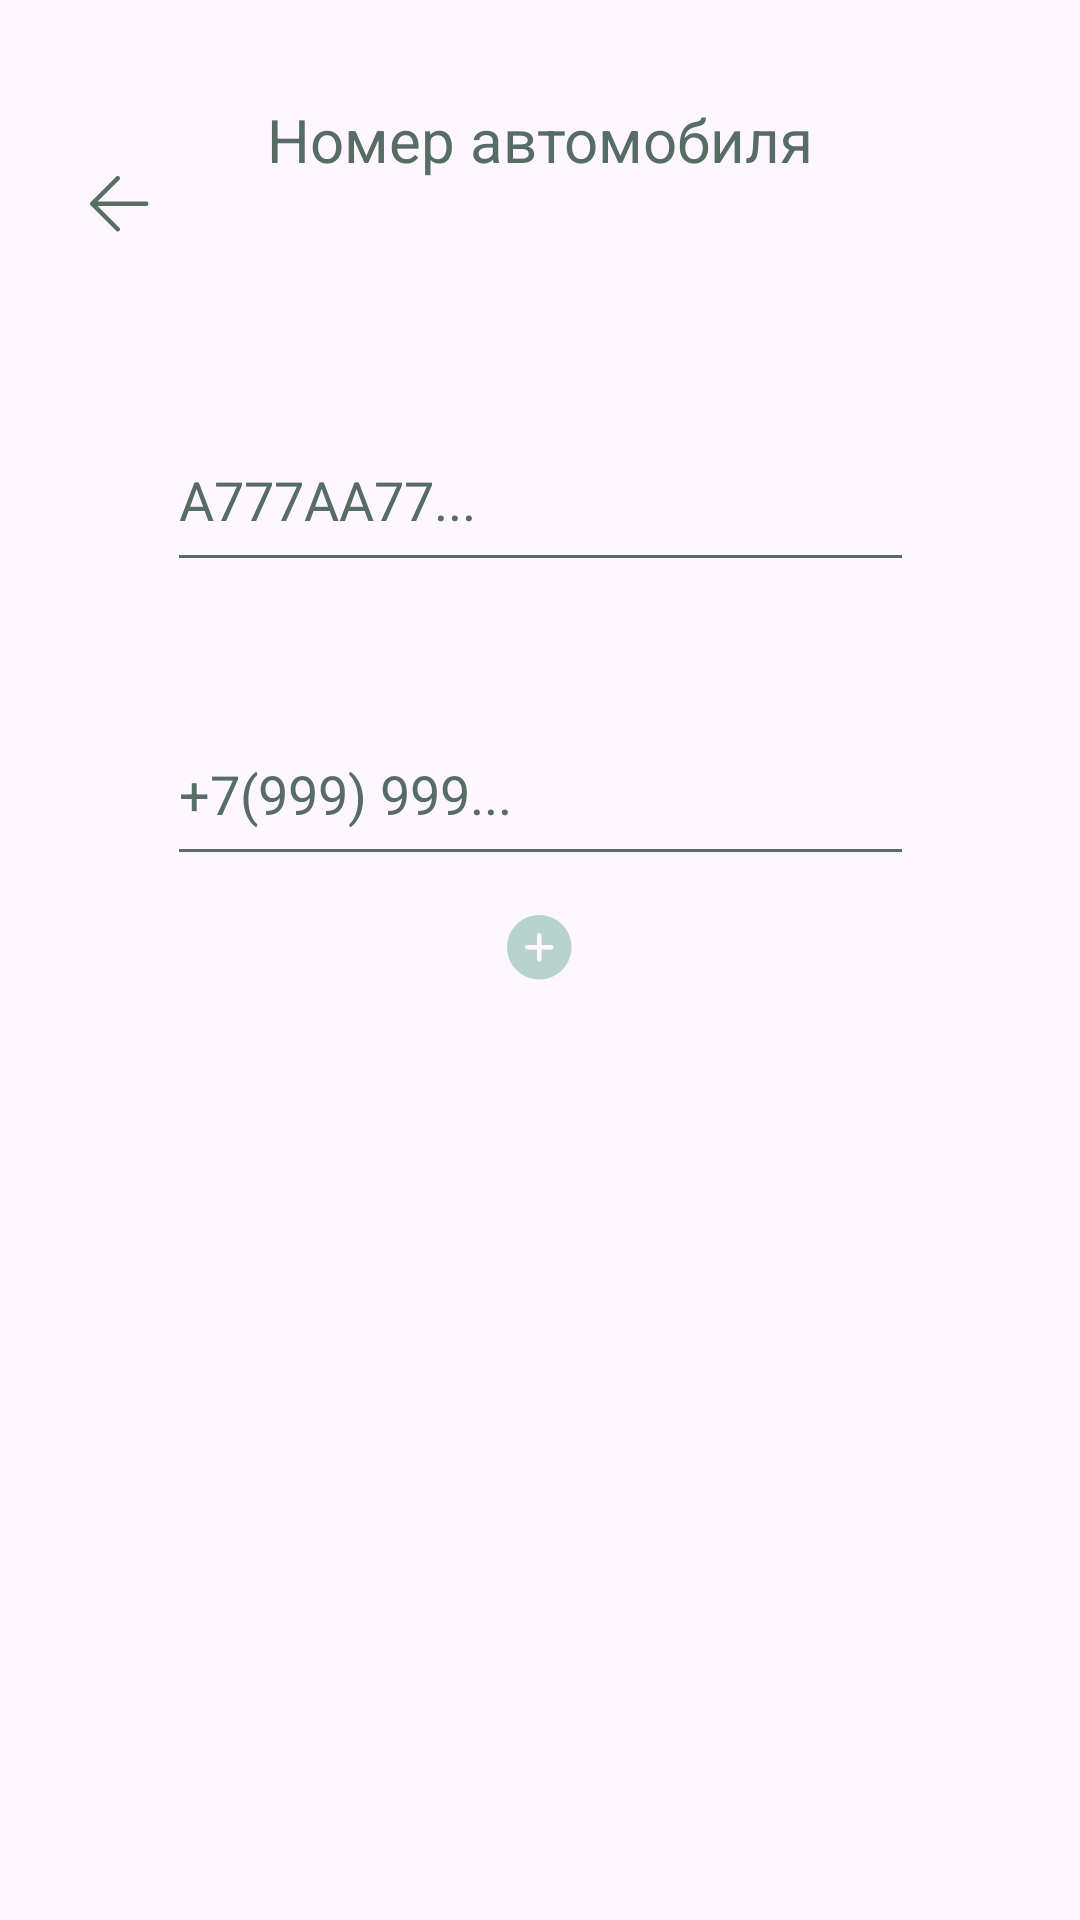

Point at icon controls on the screen. Image size 1080 x 1920, points as [x,y].
plus: [539,947]
Назад: [119,204]
